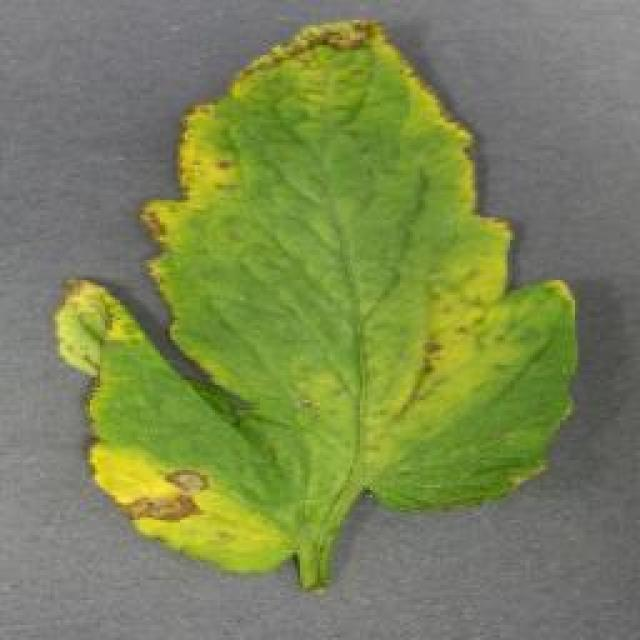Tomato___Bacterial_spot: (50, 12, 582, 596)
